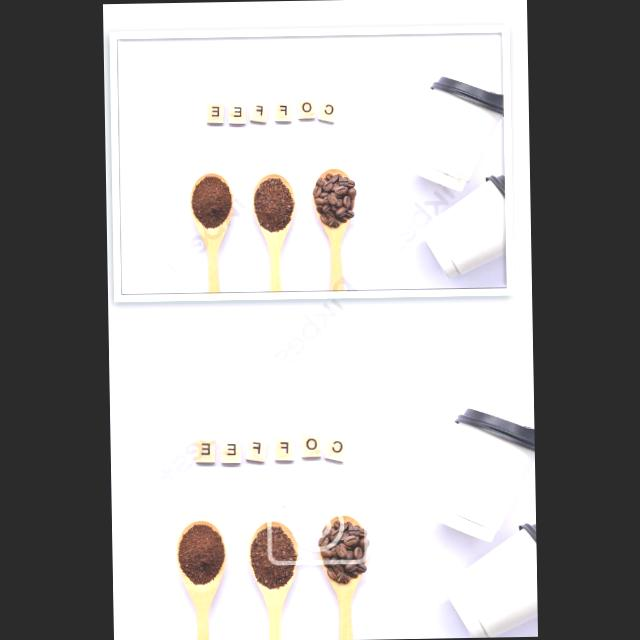trash: (431, 404, 536, 542), (438, 524, 538, 638), (407, 74, 503, 192), (419, 174, 512, 282)
